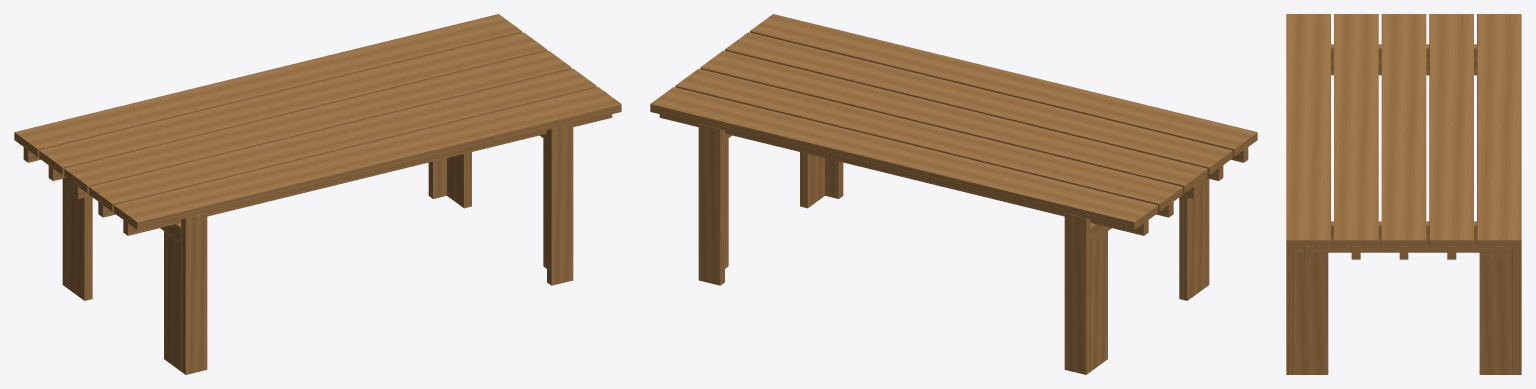
3 renders of one model, left to right at view 1: azimuth 30°, elevation 25°; view 2: azimuth 150°, elevation 25°; view 3: azimuth 270°, elevation 25°, orthographic. The views are drawn at different scales.
Visible parts, largest first — view 1: T01-01, T01-04, T01-05, T01-03, T01-02, L02-01, L02-03, L01-02, L01-01, R01-01, L01-04, L02-04 (+2 smaller); view 2: T01-05, T01-02, T01-01, T01-03, T01-04, L02-02, L02-04, L01-01, L01-02, R01-05, L01-03, L02-03 (+2 smaller); view 3: T01-03, T01-01, T01-02, T01-04, T01-05, L01-03, L01-04, C01-02, L02-03, L02-04, C01-01.
Part boxes in pixels (x1,y1,x2,y2): T01-01: (114,87,621,229); T01-04: (39,32,546,175); T01-05: (14,14,521,156); T01-03: (64,50,571,193); T01-02: (89,68,596,211); L02-01: (181,213,207,374); L02-03: (547,124,573,285); L01-02: (67,179,92,300); L01-01: (164,231,181,371); R01-01: (123,114,612,235); L01-04: (447,152,471,208); L02-04: (428,158,446,198); T01-05: (650,87,1157,229); T01-02: (725,32,1232,175); T01-01: (750,14,1257,156); T01-03: (700,50,1207,193); T01-04: (675,68,1182,211); L02-02: (1064,213,1090,374); L02-04: (698,124,724,285); L01-01: (1179,179,1204,300); L01-02: (1090,231,1107,371); R01-05: (659,114,1148,235); L01-03: (800,152,824,208); L02-03: (825,158,843,198); T01-03: (1381,14,1426,247); T01-01: (1286,14,1330,247); T01-02: (1334,14,1378,247); T01-04: (1429,14,1473,247); T01-05: (1477,14,1521,247); L01-03: (1295,252,1328,374); L01-04: (1479,252,1512,374); C01-02: (1295,221,1512,252); L02-03: (1286,247,1295,374); L02-04: (1512,247,1521,374); C01-01: (1331,44,1476,75).
Size of the model in its own units: 6 by 1.95 by 2.64.
1 material, 1 textured.
